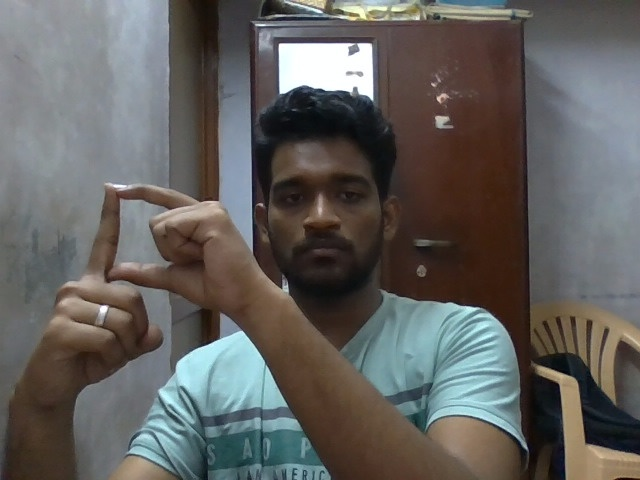D: (12, 177, 260, 396)
